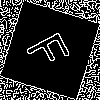F: (25, 25, 79, 74)
